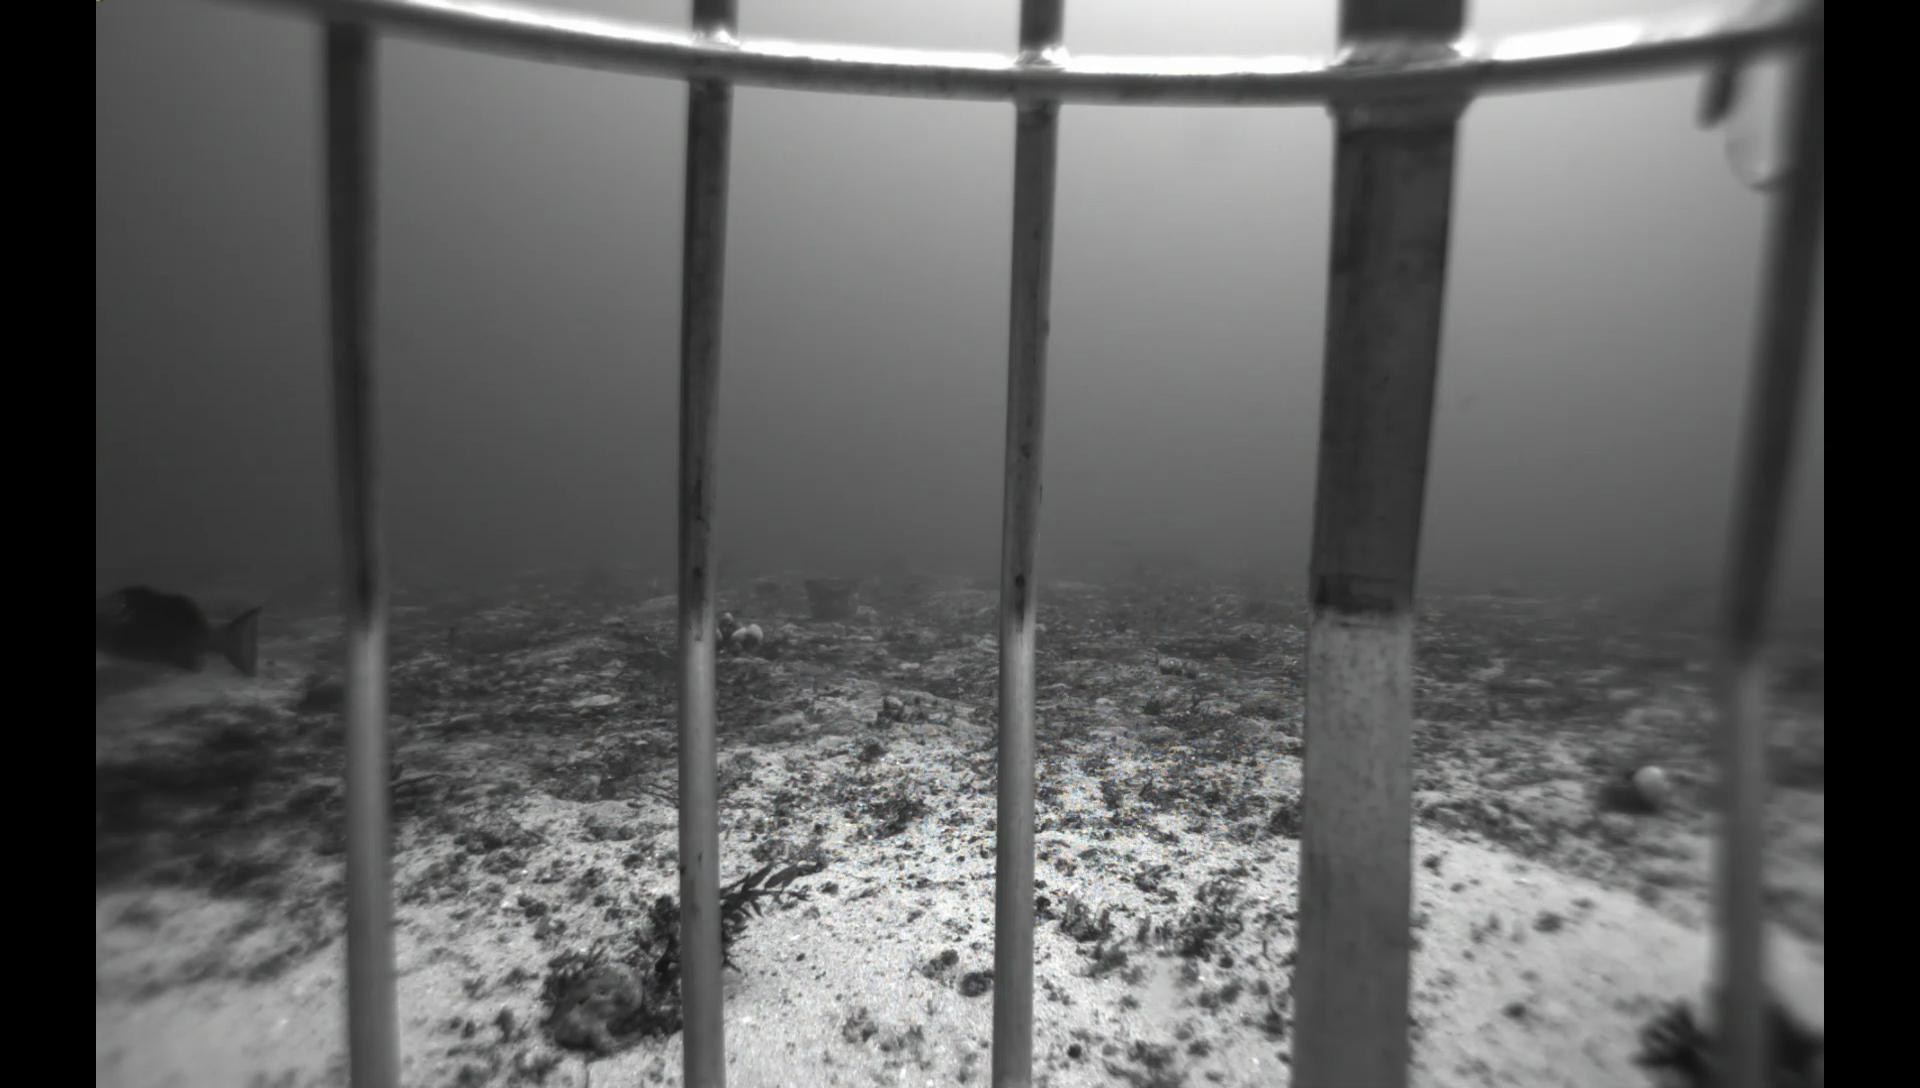CHAETODONOCELLATUS-170260307: (642, 572, 667, 593), (864, 572, 887, 589)
EPINEPHELUSMORIO-170021211: (94, 579, 269, 686)
PRISTIGENYSALTA-170050401: (293, 671, 348, 717)
